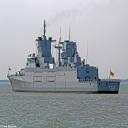Fragata: (8, 20, 122, 95)
